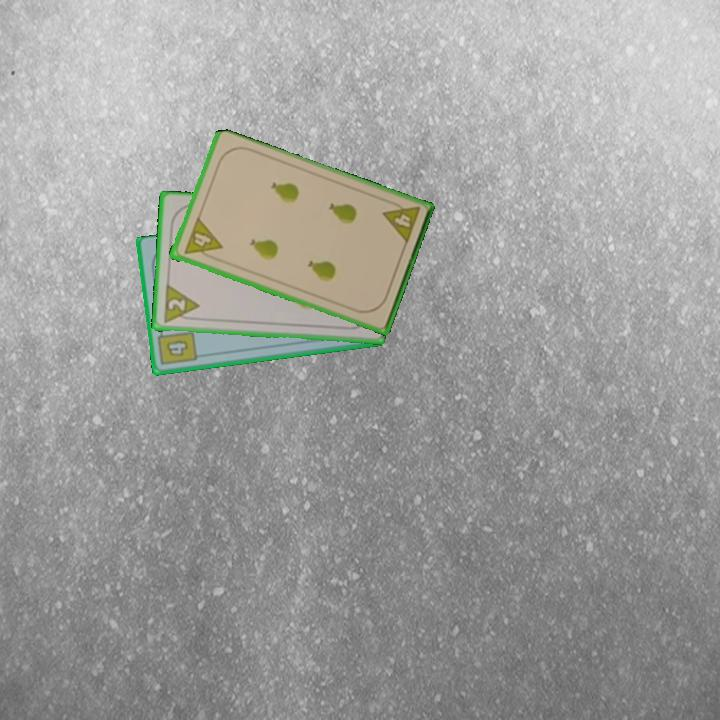2p: (159, 282, 202, 326)
4b: (155, 325, 200, 368)
4p: (379, 196, 423, 246), (180, 215, 224, 264)
